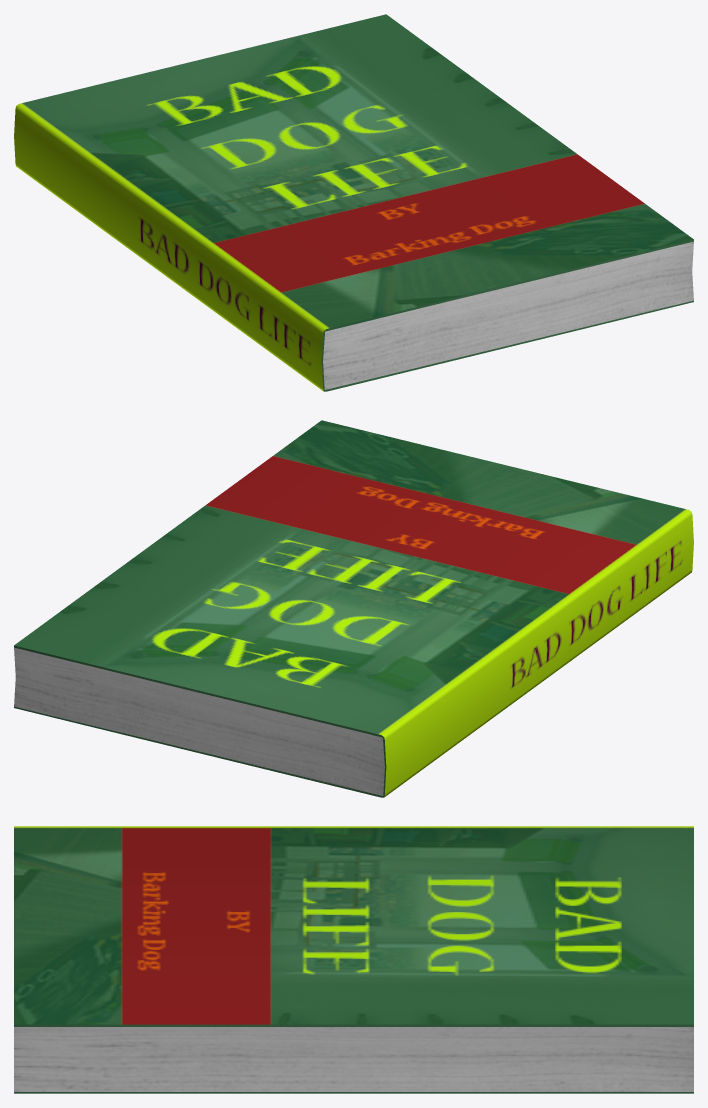
File: Book_10.FBX
3 renders of one model, top to bottom at view 1: azimuth 30°, elevation 25°; view 2: azimuth 150°, elevation 25°; view 3: azimuth 270°, elevation 25°, orthographic. The views are drawn at different scales.
Parts seen in each view (by area): view 1: Book_10; view 2: Book_10; view 3: Book_10.
Boxes of the visible parts, box(x1,y1,x2,y2) form: Book_10: box(14, 14, 693, 391); Book_10: box(14, 420, 693, 797); Book_10: box(14, 826, 693, 1093).
Size of the model in its own units: 0.2524 by 0.0405 by 0.3613.
1 material, 1 textured.
